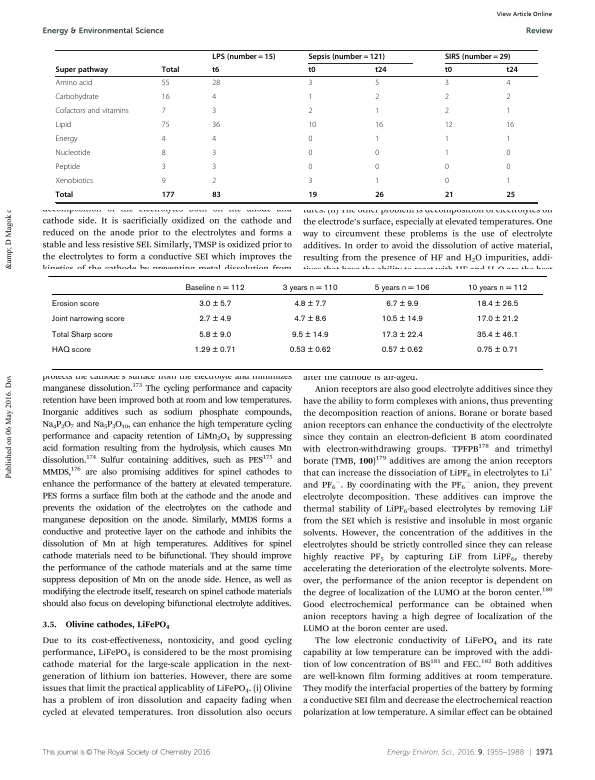borderless: (54, 48, 537, 202), (47, 274, 543, 369)
cell: (55, 106, 130, 116), (50, 315, 125, 325), (307, 52, 386, 61), (50, 330, 113, 340), (466, 283, 528, 293), (184, 283, 245, 293), (444, 52, 511, 61), (211, 52, 276, 61), (281, 283, 338, 293), (373, 283, 430, 293), (55, 65, 109, 75), (50, 299, 99, 309), (55, 92, 100, 102), (475, 299, 519, 309), (475, 315, 519, 325), (475, 330, 519, 340), (475, 346, 519, 356), (380, 315, 423, 325), (380, 330, 423, 340), (193, 346, 236, 356), (288, 346, 331, 356), (380, 346, 423, 356), (50, 346, 91, 356), (55, 176, 94, 186), (290, 330, 329, 340), (55, 78, 93, 88), (55, 148, 91, 158), (198, 299, 232, 309), (293, 299, 327, 309), (385, 299, 419, 309), (198, 315, 232, 325), (293, 315, 327, 325), (198, 330, 232, 340), (55, 162, 81, 172), (55, 134, 78, 144), (161, 65, 180, 75), (55, 190, 74, 200), (55, 120, 72, 130), (374, 65, 388, 75), (505, 65, 519, 75), (161, 190, 175, 200), (211, 190, 222, 200), (307, 190, 318, 200), (374, 190, 385, 200), (505, 190, 516, 200), (211, 78, 221, 88), (211, 120, 221, 130), (307, 120, 317, 130), (374, 120, 384, 130), (444, 120, 454, 130), (505, 120, 515, 130), (444, 190, 454, 200), (211, 65, 220, 75), (307, 65, 316, 75), (444, 65, 453, 75), (161, 78, 170, 88), (161, 92, 170, 102), (161, 120, 170, 130), (307, 78, 313, 88), (374, 78, 380, 88), (444, 78, 450, 88), (505, 78, 511, 88), (211, 92, 217, 102), (307, 92, 313, 102), (374, 92, 380, 102), (444, 92, 450, 102), (505, 92, 511, 102), (161, 106, 167, 116), (211, 106, 217, 116), (307, 106, 313, 116), (374, 106, 380, 116), (444, 106, 450, 116), (505, 106, 511, 116), (161, 134, 167, 144), (211, 134, 217, 144), (307, 134, 313, 144), (374, 134, 380, 144), (444, 134, 450, 144), (505, 134, 511, 144), (161, 148, 167, 158), (211, 148, 217, 158), (307, 148, 313, 158), (374, 148, 380, 158), (444, 148, 450, 158), (505, 148, 511, 158), (161, 162, 167, 172), (211, 162, 217, 172), (307, 162, 313, 172), (374, 162, 380, 172), (444, 162, 450, 172), (505, 162, 511, 172), (161, 176, 167, 186), (211, 176, 217, 186), (307, 176, 313, 186), (374, 176, 380, 186), (444, 176, 450, 186), (505, 176, 511, 186)
